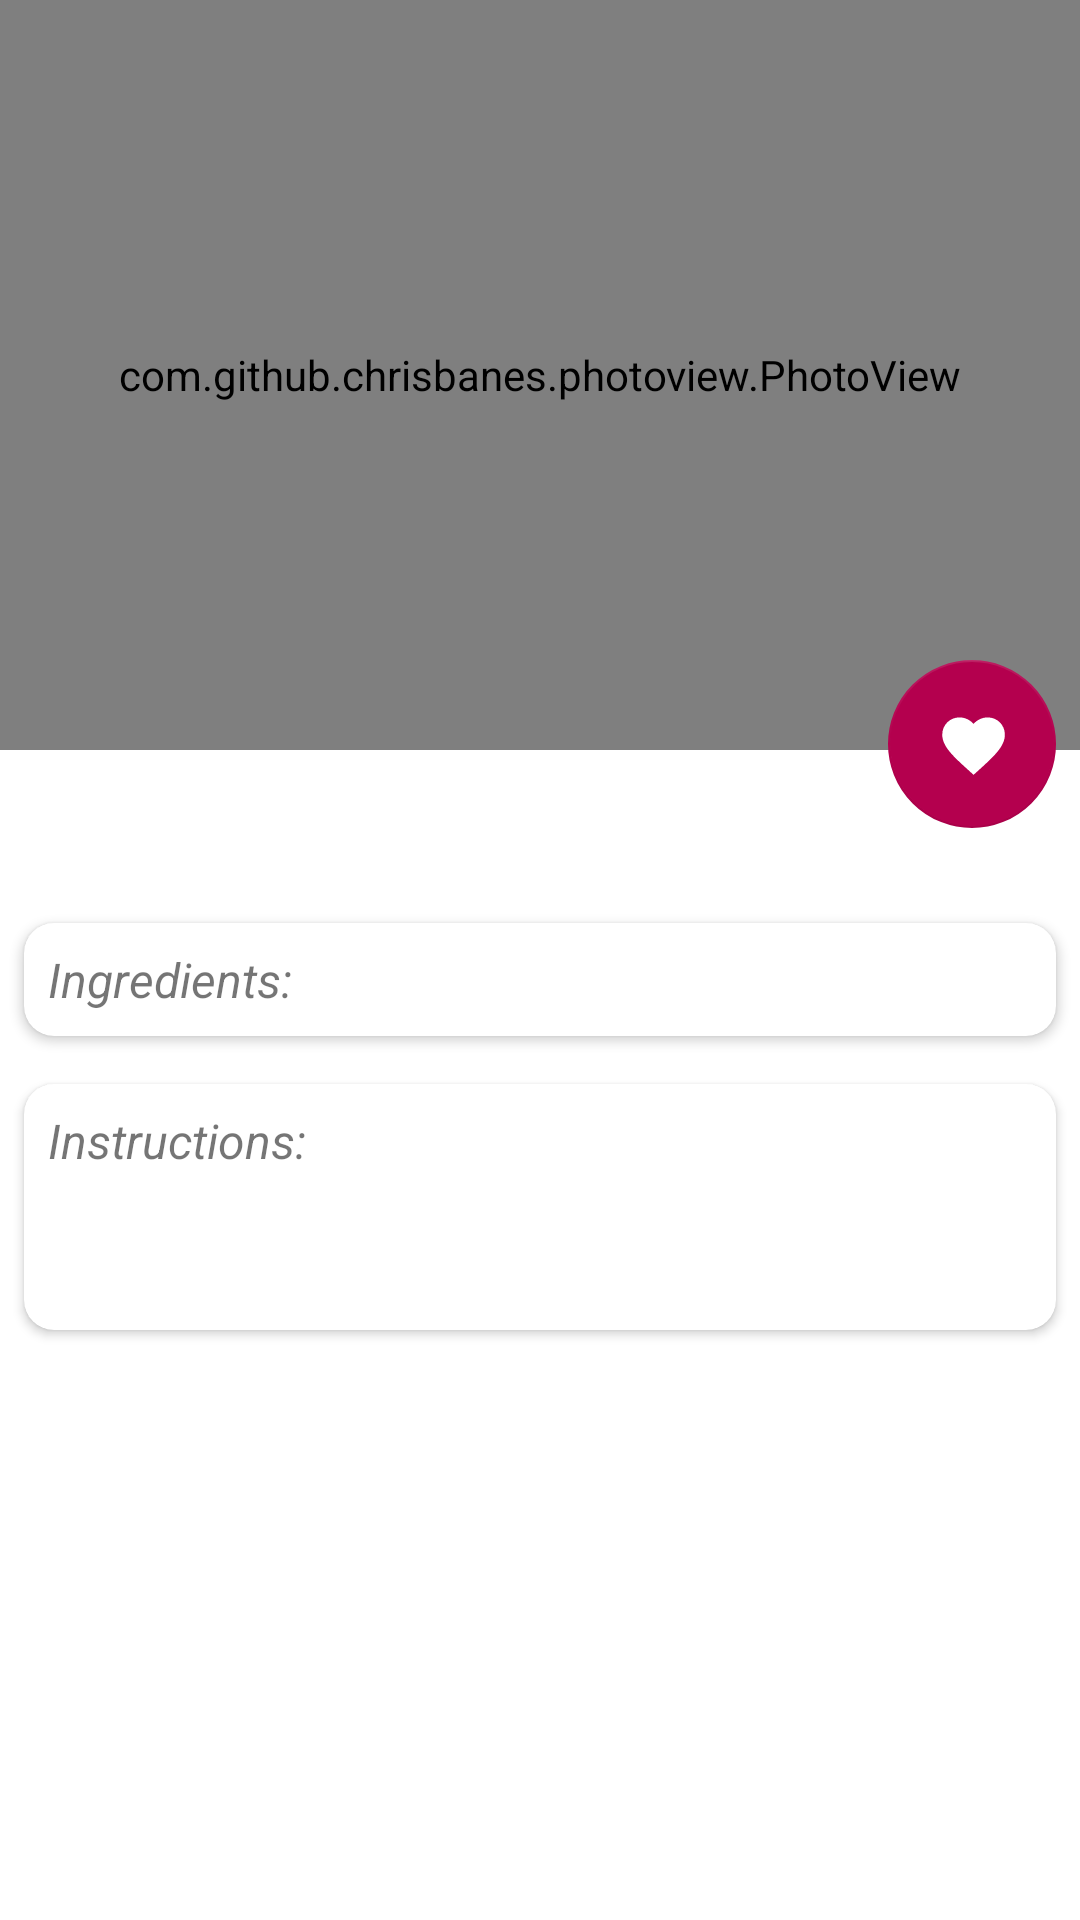

Icons on this 1080*1920 Android screen, each with the point to tap as (x,y):
favorite: (972,744)
